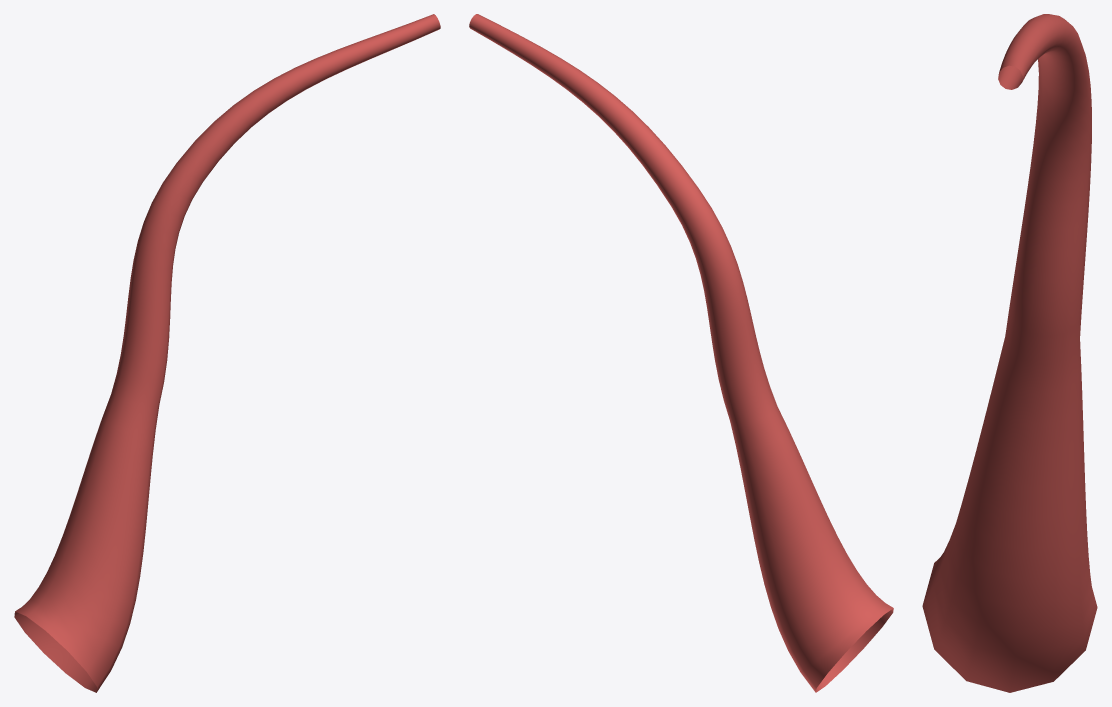
3 views of the same model, side by side, from view 1: azimuth 30°, elevation 25°; view 2: azimuth 150°, elevation 25°; view 3: azimuth 270°, elevation 25° (orthographic). The views are drawn at different scales.
Parts seen in each view (by area): view 1: 左侧肾动脉后支; view 2: 左侧肾动脉后支; view 3: 左侧肾动脉后支.
Part boxes in pixels (x1,y1,x2,y2): 左侧肾动脉后支: (14,14,440,692); 左侧肾动脉后支: (469,14,893,692); 左侧肾动脉后支: (922,14,1097,692).
Size of the model in its own units: 0.0421 by 0.0574 by 0.0103.
